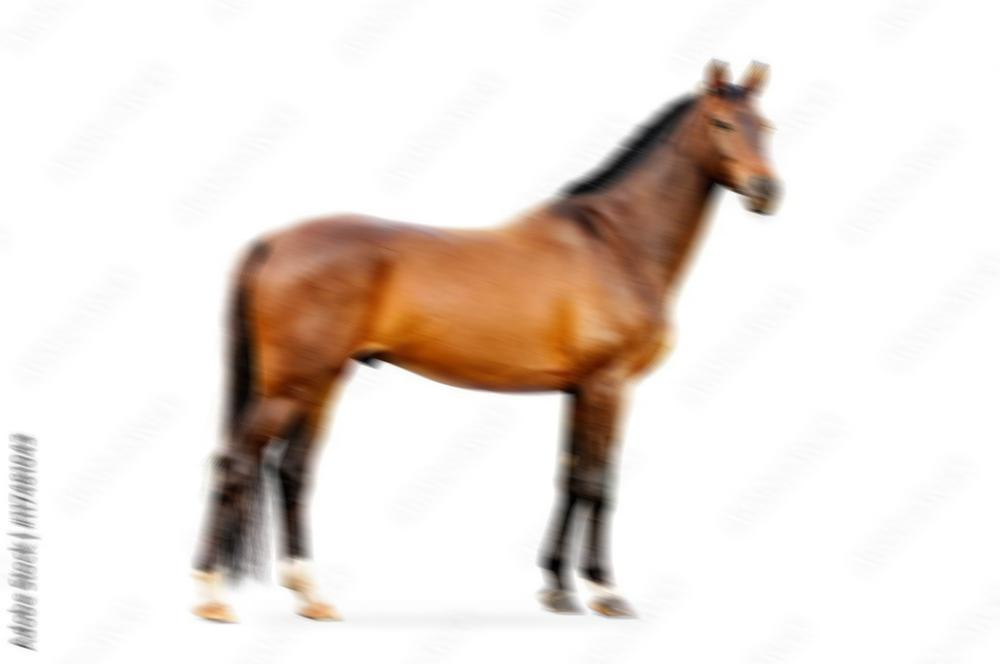horse: (184, 51, 788, 633)
